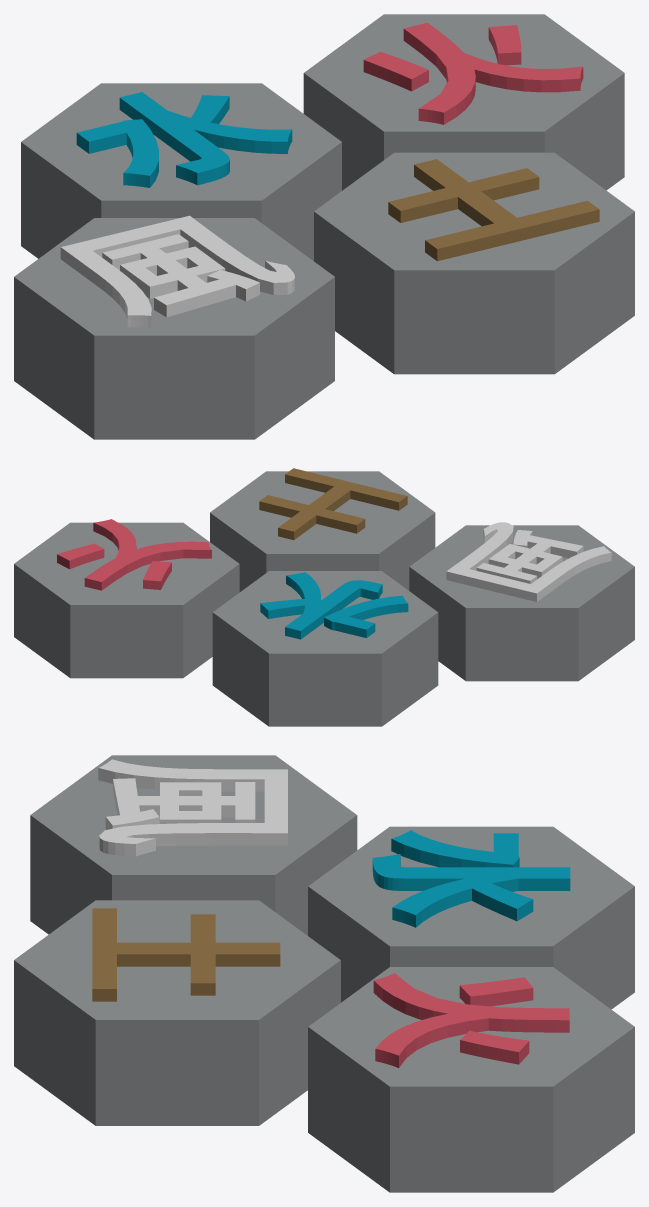
Rendered from Elements.glb.
3 views of the same model, one above another, from view 1: azimuth 30°, elevation 25°; view 2: azimuth 150°, elevation 25°; view 3: azimuth 270°, elevation 25° (orthographic). The views are drawn at different scales.
Visible parts, largest first — view 1: Mesh_Mesh_head_geo.001_lambert2SG.001; view 2: Mesh_Mesh_head_geo.001_lambert2SG.001; view 3: Mesh_Mesh_head_geo.001_lambert2SG.001.
Part boxes in pixels (x1,y1,x2,y2): Mesh_Mesh_head_geo.001_lambert2SG.001: [14, 14, 634, 439]; Mesh_Mesh_head_geo.001_lambert2SG.001: [14, 468, 634, 726]; Mesh_Mesh_head_geo.001_lambert2SG.001: [14, 755, 634, 1192].
Bounding box in the file's own units: 47.98 × 8 × 38.
